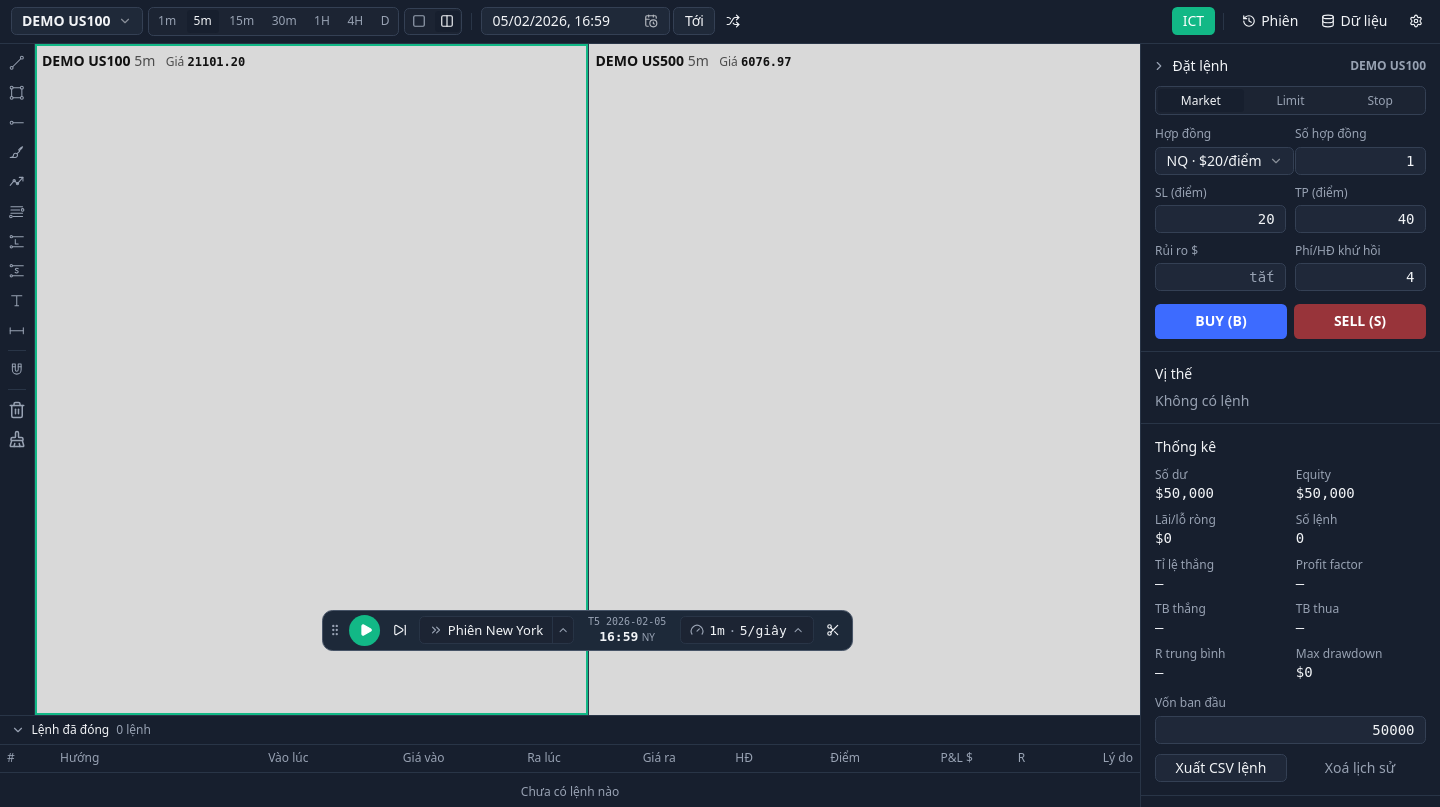
it: settings: the My ICT tab has the SMT section; Cancel restores
Click the button named "Cài đặt".
click(1416, 21)  # box x1=1402 y1=7 x2=1430 y2=35
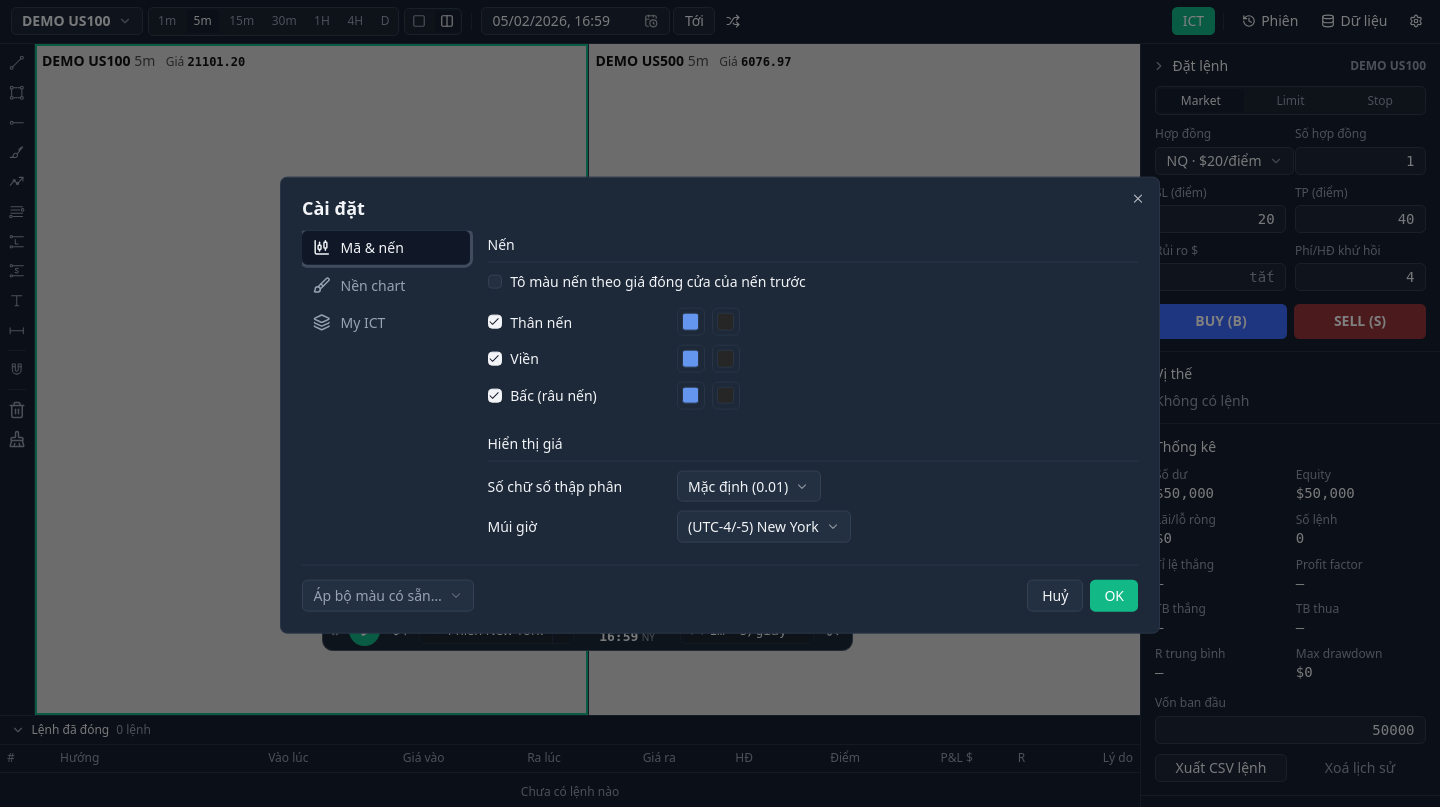
Click the tab "My ICT".
click(386, 323)  # box x1=302 y1=306 x2=470 y2=340
(page scrolled)
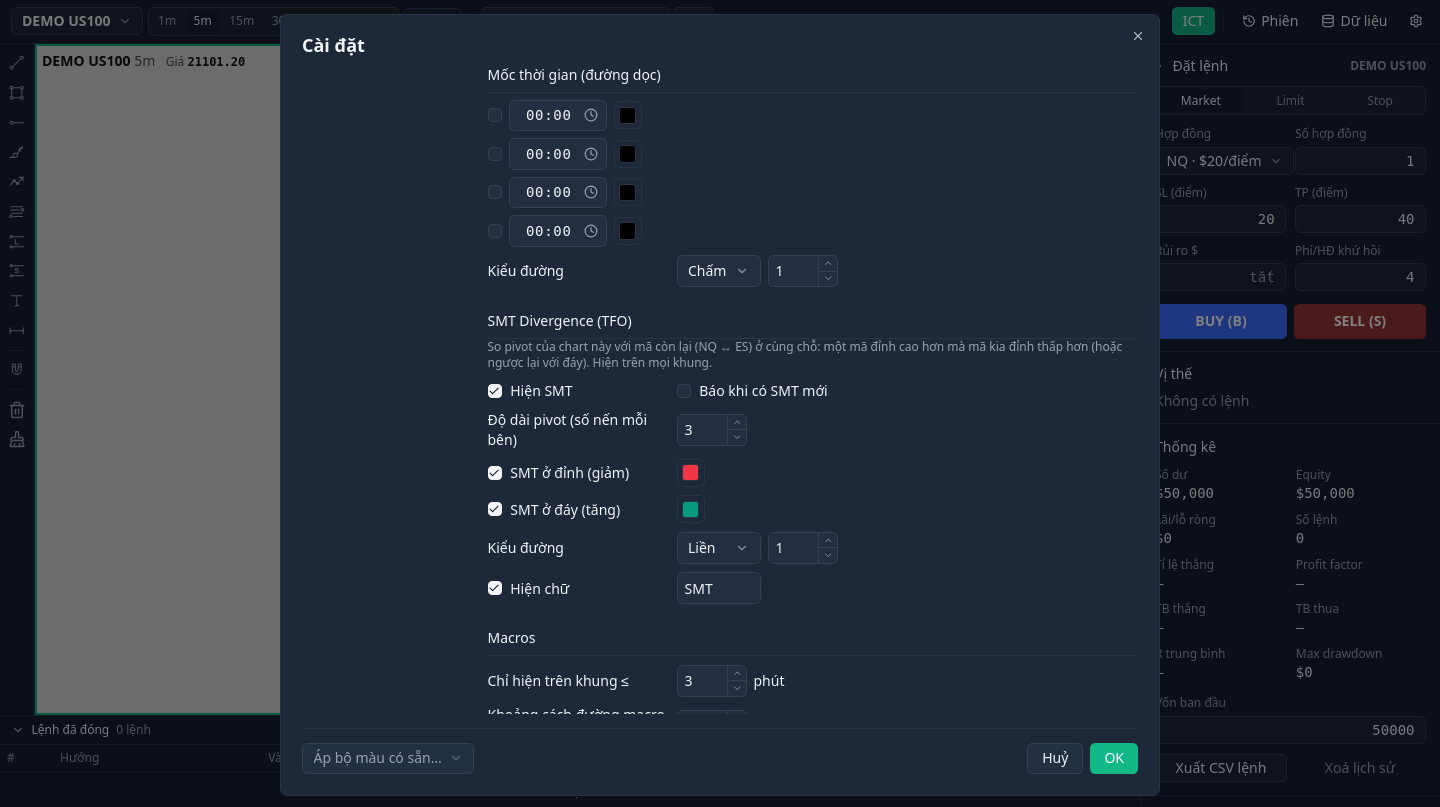
expect the heading "SMT Divergence (TFO)" is shown: met, box x1=488 y1=311 x2=1138 y2=339
Click the checkbox named "Hiện SMT" next to "Hiện SMT".
click(494, 390)  # box x1=488 y1=384 x2=502 y2=398
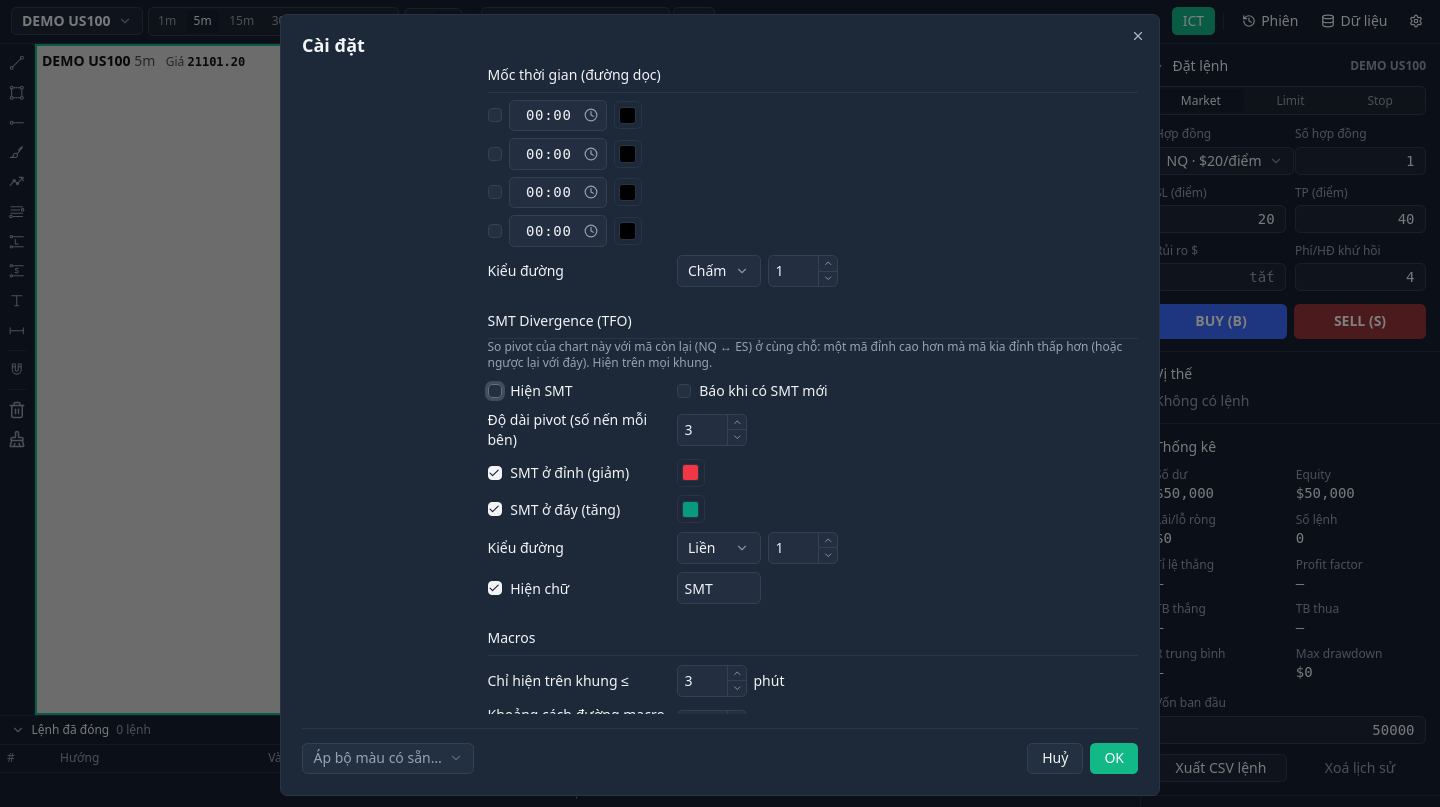
Click the button "Huỷ".
click(1055, 758)  # box x1=1027 y1=742 x2=1083 y2=774
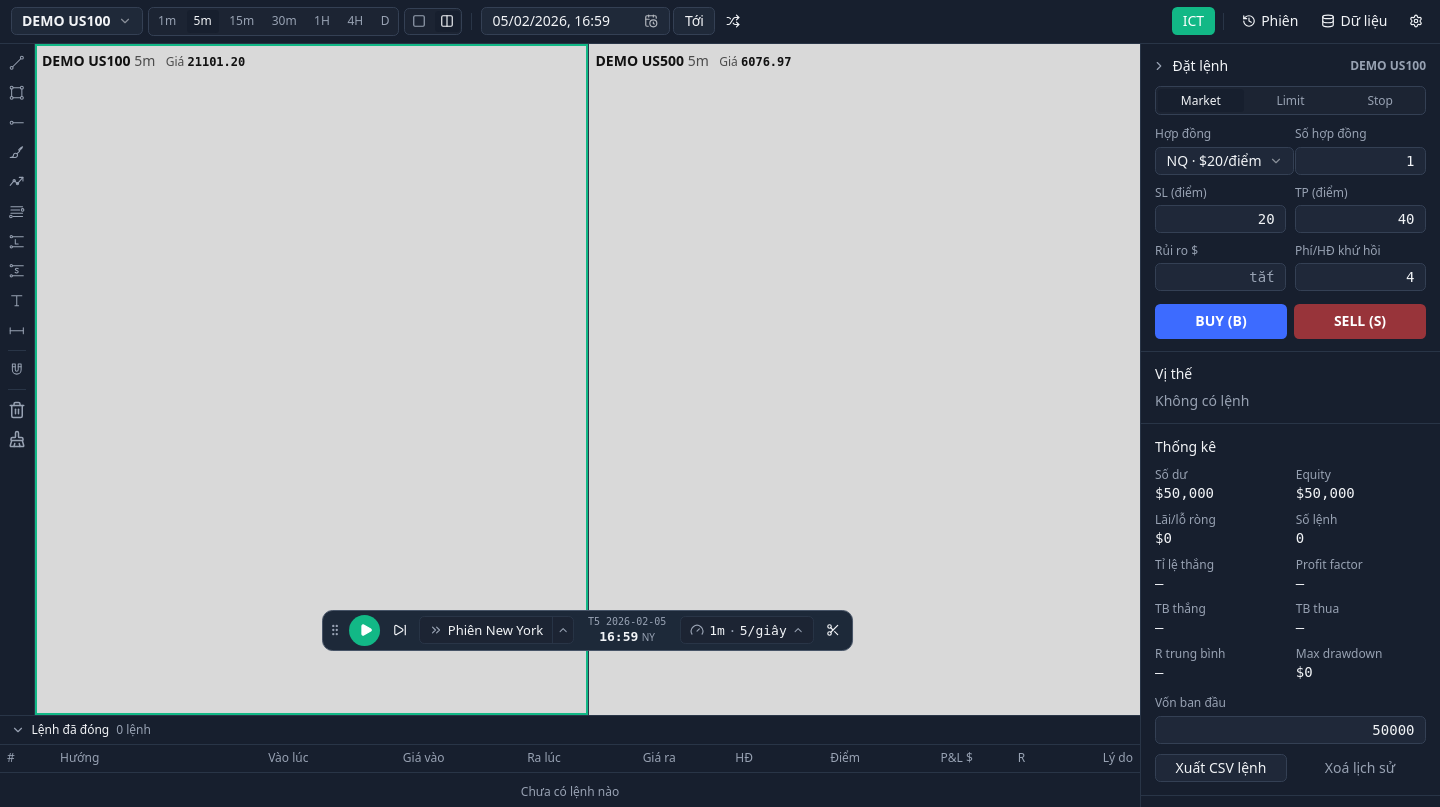
expect the dialog is gone: met
